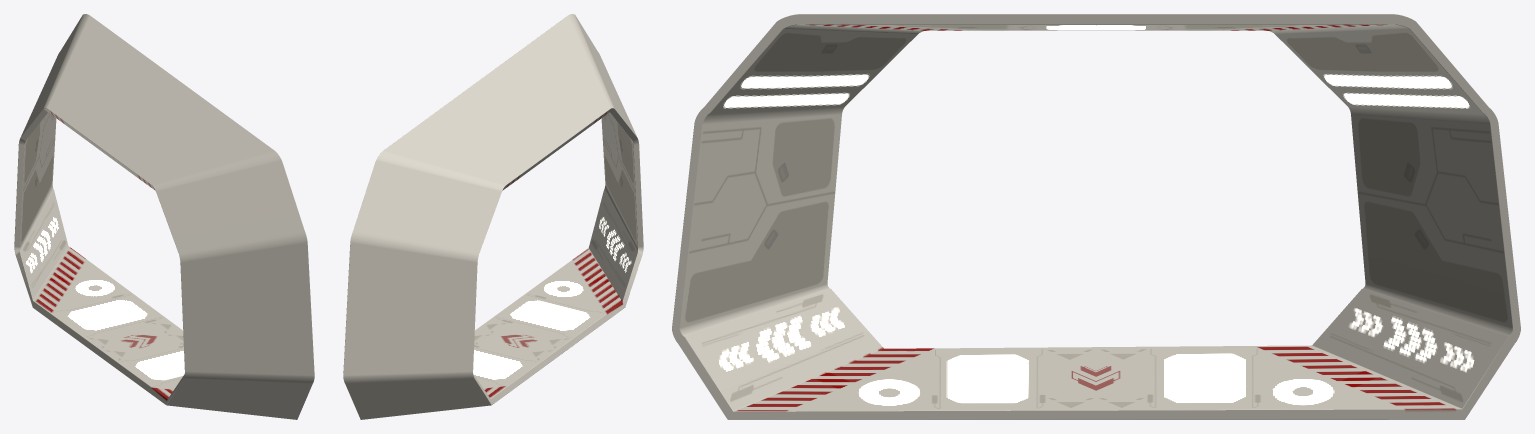
Rendered from SM_CoridorJointDoorWall.fbx.
The picture shows the model from 3 angles, left to right: view 1: azimuth 30°, elevation 25°; view 2: azimuth 150°, elevation 25°; view 3: azimuth 270°, elevation 25°; orthographic projection. The views are drawn at different scales.
Parts seen in each view (by area): view 1: SM_CoridorJointDoorWall_LOD0; view 2: SM_CoridorJointDoorWall_LOD0; view 3: SM_CoridorJointDoorWall_LOD0.
Boxes of the visible parts, x1,y1,x2,y2 form: SM_CoridorJointDoorWall_LOD0: (14, 14, 314, 419); SM_CoridorJointDoorWall_LOD0: (343, 14, 643, 419); SM_CoridorJointDoorWall_LOD0: (672, 14, 1520, 419).
Size of the model in its own units: 132 by 385 by 728.
1 material, 1 textured.
